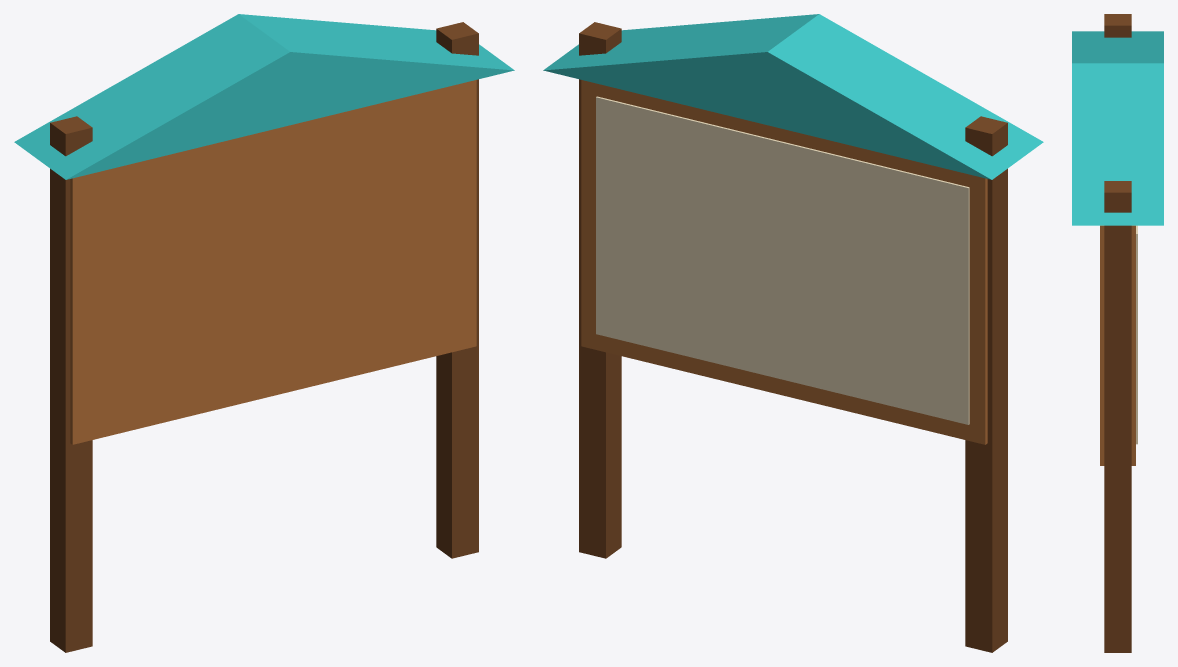
File: map_board_stand.fbx
The picture shows the model from 3 angles, left to right: view 1: azimuth 30°, elevation 25°; view 2: azimuth 150°, elevation 25°; view 3: azimuth 270°, elevation 25°; orthographic projection. The views are drawn at different scales.
Parts seen in each view (by area): view 1: map_board_stand; view 2: map_board_stand; view 3: map_board_stand.
Boxes of the visible parts, left/top/right/bottom form: map_board_stand: left=14, top=14, right=514, bottom=652; map_board_stand: left=543, top=14, right=1043, bottom=652; map_board_stand: left=1072, top=14, right=1163, bottom=652.
Bounding box in the file's own units: 2 × 2.4 × 0.4.
